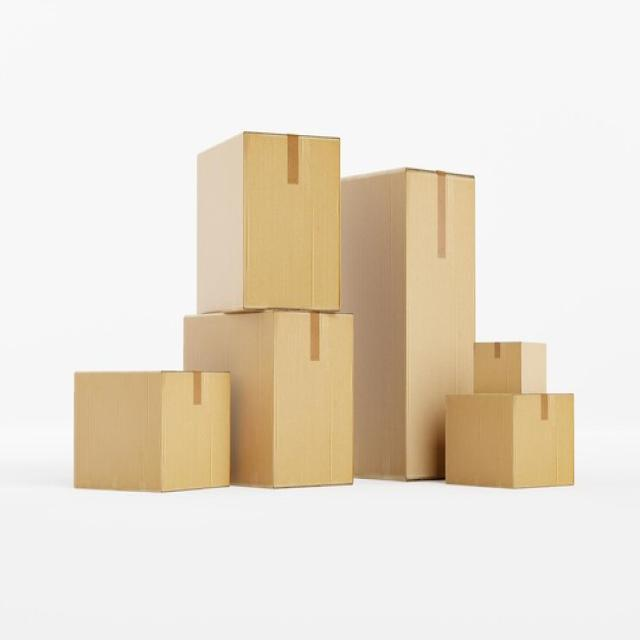BoxFace: (403, 169, 477, 482), (241, 134, 341, 312), (274, 310, 353, 489), (162, 370, 230, 495), (512, 394, 576, 489), (474, 342, 522, 394)
